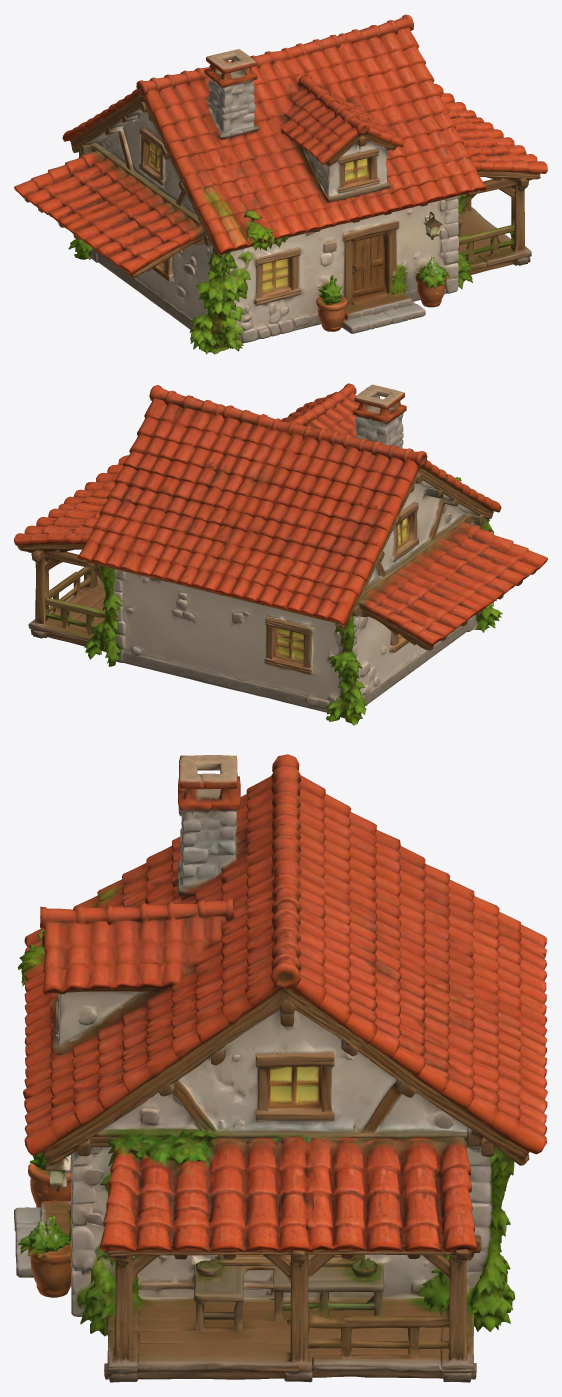
File: cottage.glb
3 renders of one model, top to bottom at view 1: azimuth 30°, elevation 25°; view 2: azimuth 150°, elevation 25°; view 3: azimuth 270°, elevation 25°, orthographic. The views are drawn at different scales.
Parts seen in each view (by area): view 1: tripo_node_6865b2f0-a476-43c2-83fe-327802c5348e; view 2: tripo_node_6865b2f0-a476-43c2-83fe-327802c5348e; view 3: tripo_node_6865b2f0-a476-43c2-83fe-327802c5348e.
Part boxes in pixels (left/top/right/bottom): tripo_node_6865b2f0-a476-43c2-83fe-327802c5348e: left=14, top=14, right=547, bottom=354; tripo_node_6865b2f0-a476-43c2-83fe-327802c5348e: left=14, top=383, right=547, bottom=725; tripo_node_6865b2f0-a476-43c2-83fe-327802c5348e: left=14, top=754, right=547, bottom=1382.
Bounding box in the file's own units: 0.979 × 0.5486 × 0.6547.
Materials: 1 (1 with a texture image).
